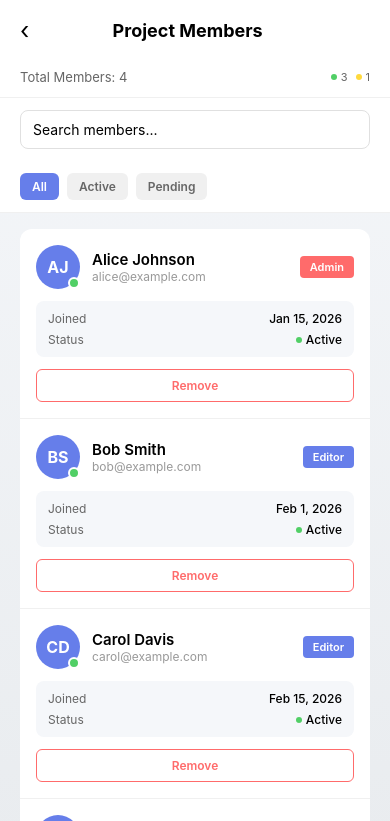
ProjectMembersScreen › Permission Management › should close permission modal on done button
Click the text "admin" at (327, 267), box x1=310 y1=260 x2=344 y2=274
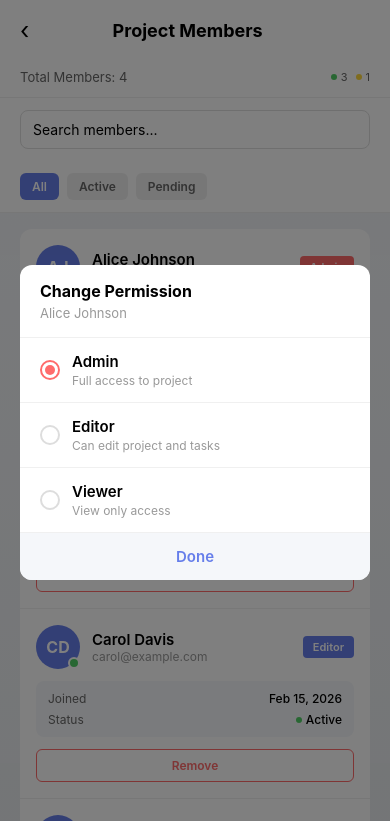
Expected: the text "Change Permission" is shown, x1=40 y1=280 x2=192 y2=300
Click the text "Done" at (195, 556), box x1=176 y1=546 x2=214 y2=566
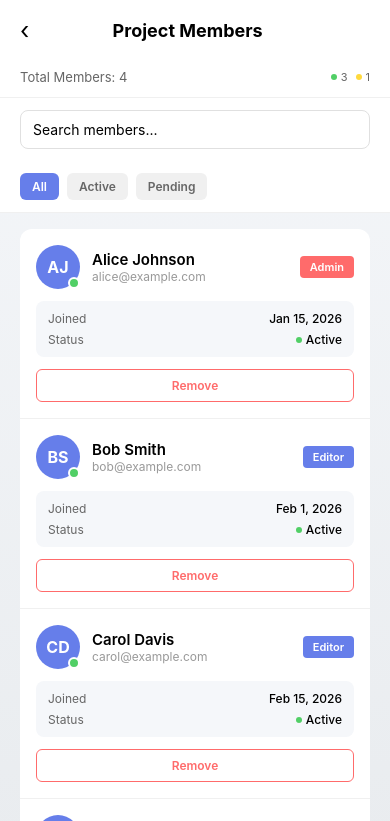
Expected: the text "Change Permission" is gone
